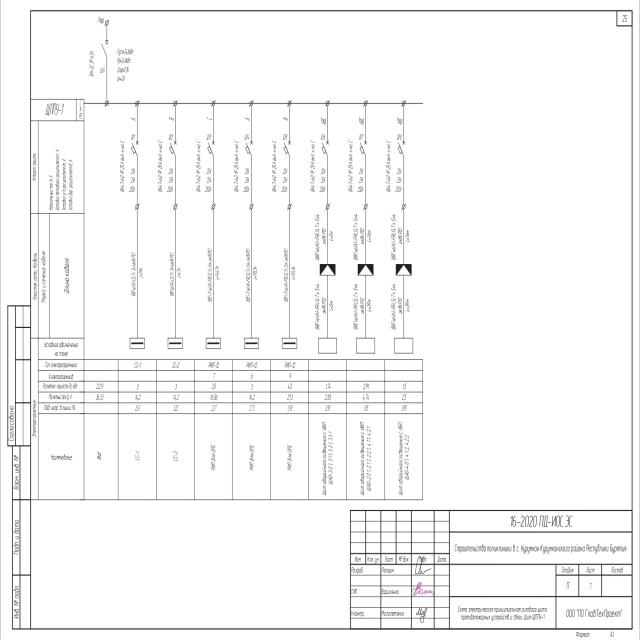-: (310, 140, 326, 194), (120, 139, 136, 193), (158, 139, 174, 193), (272, 140, 288, 194), (348, 140, 364, 194), (196, 139, 212, 193), (234, 140, 250, 193), (386, 140, 402, 193), (88, 48, 105, 78), (45, 102, 65, 118)
QF: (396, 139, 406, 158), (282, 139, 292, 158), (168, 139, 178, 158), (244, 140, 253, 160), (359, 140, 368, 159), (207, 139, 216, 158), (131, 139, 140, 158), (321, 140, 330, 158)
QS: (100, 39, 110, 61)
